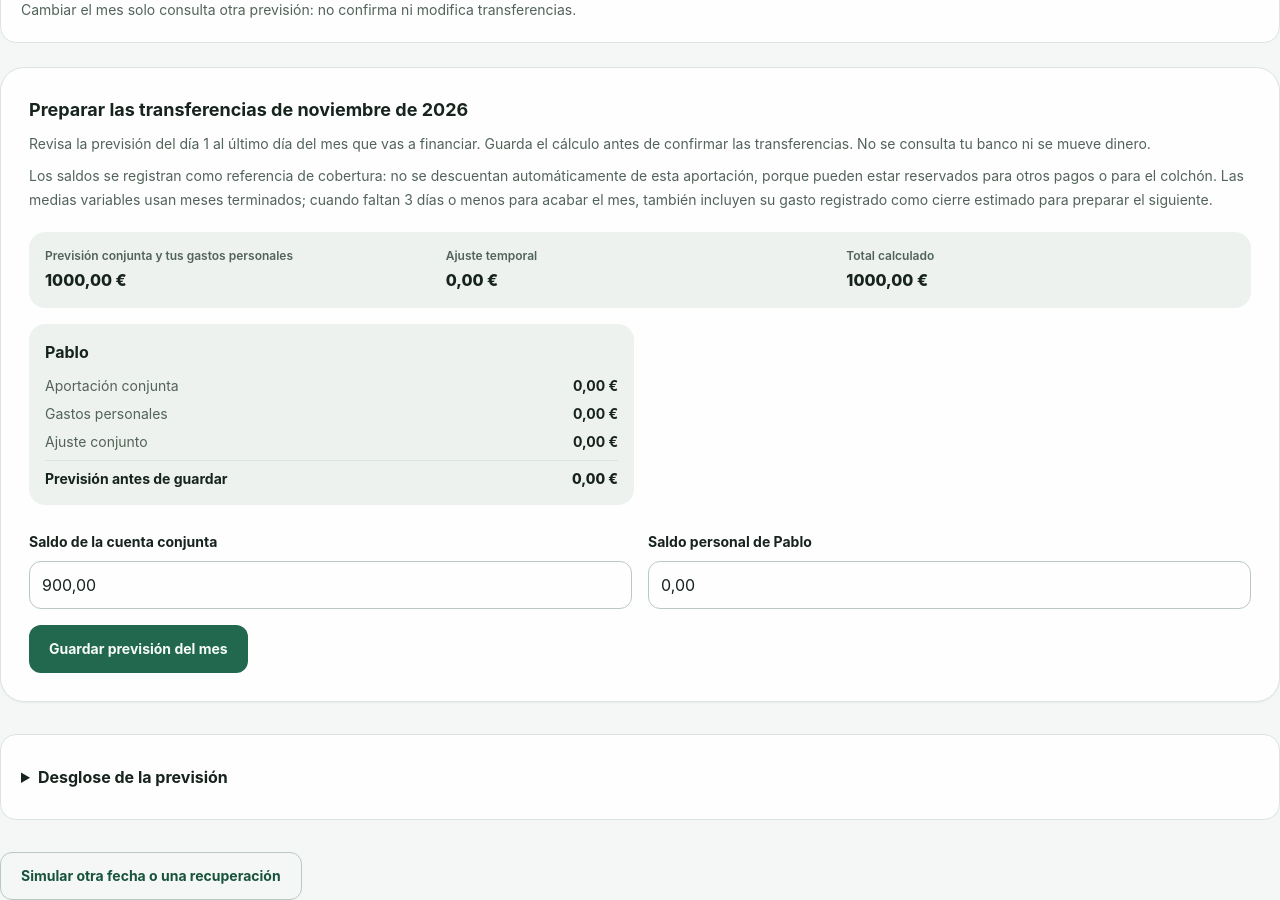
PlanningPage salary month forecast › shows extraordinary expenses and their included margin in the breakdown
(page scrolled)
Click the heading "Desglose de la previsión": (133, 777) [38,767,228,787]
(page scrolled)
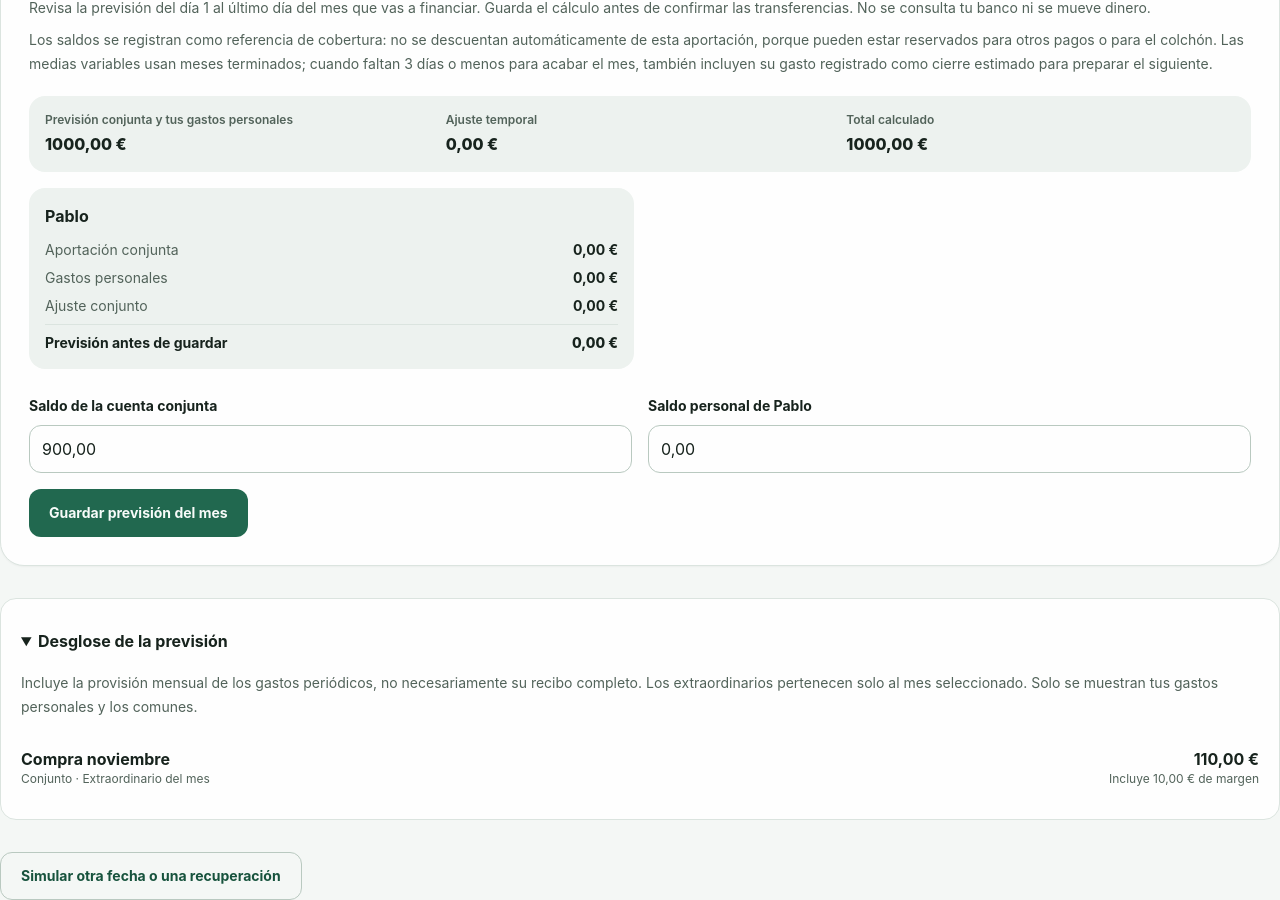
expect the text "Compra noviembre" is shown: met, box [21,749,170,769]
expect the text "Conjunto · Extraordinario del mes" is shown: met, box [21,771,210,787]
expect the text "Incluye 10,00 € de margen" is shown: met, box [1109,771,1259,787]
